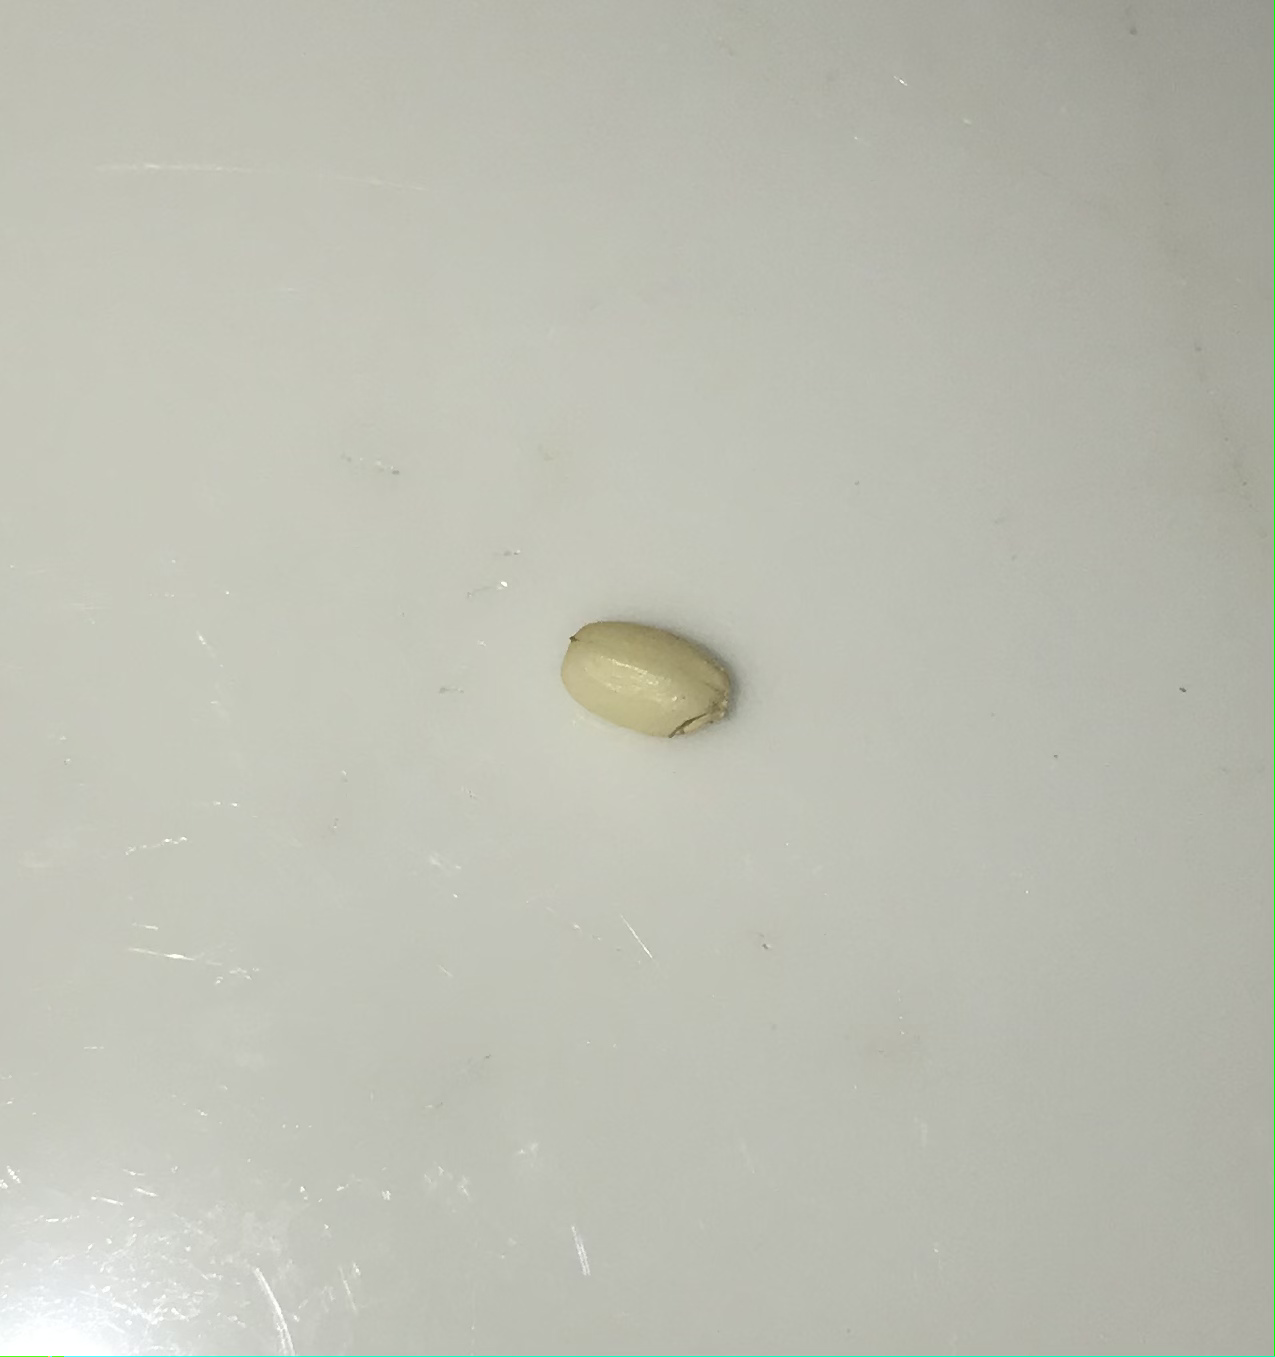Gao Lut Bac: (551, 602, 744, 752)
